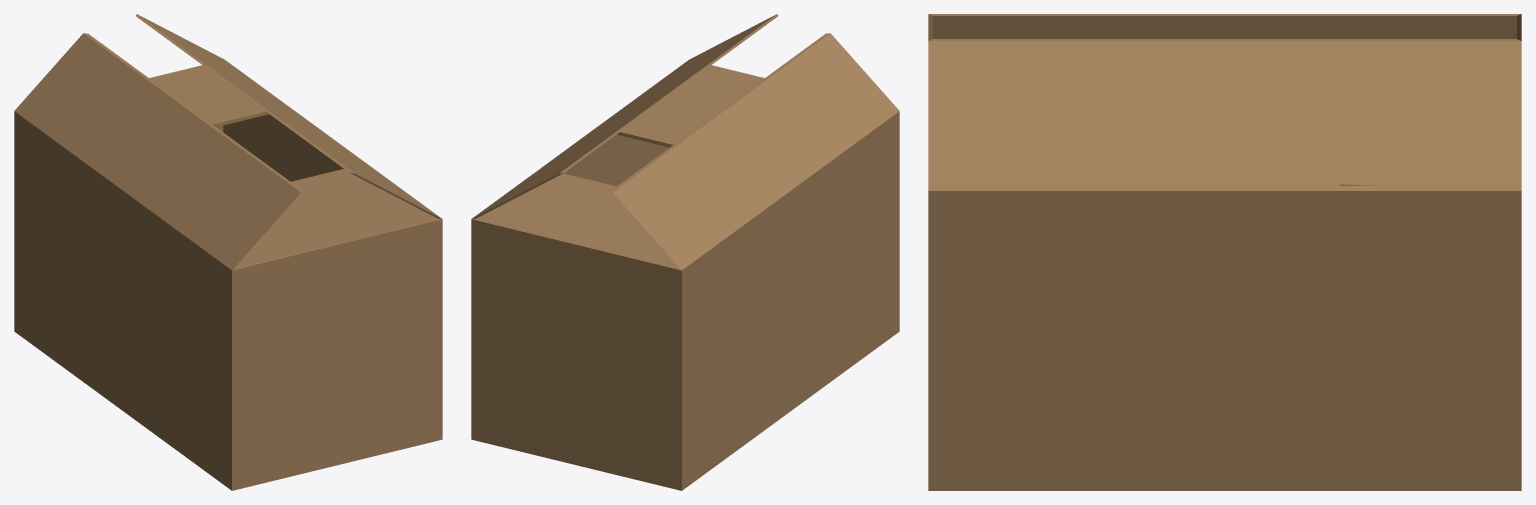
File: BoxLargeHalfOpen.fbx
3 views of the same model, side by side, from view 1: azimuth 30°, elevation 25°; view 2: azimuth 150°, elevation 25°; view 3: azimuth 270°, elevation 25° (orthographic). The views are drawn at different scales.
Visible parts, largest first — view 1: BoxlargeHalfOpen; view 2: BoxlargeHalfOpen; view 3: BoxlargeHalfOpen.
Boxes of the visible parts, x1,y1,x2,y2 form: BoxlargeHalfOpen: (14, 14, 442, 490); BoxlargeHalfOpen: (471, 14, 899, 490); BoxlargeHalfOpen: (928, 14, 1521, 490).
Bounding box in the file's own units: 200 × 261 × 358.
